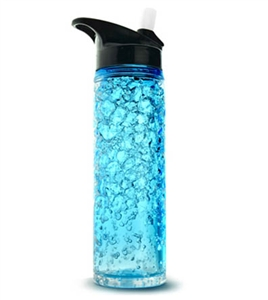Rec_Plastic: (64, 1, 175, 291)
